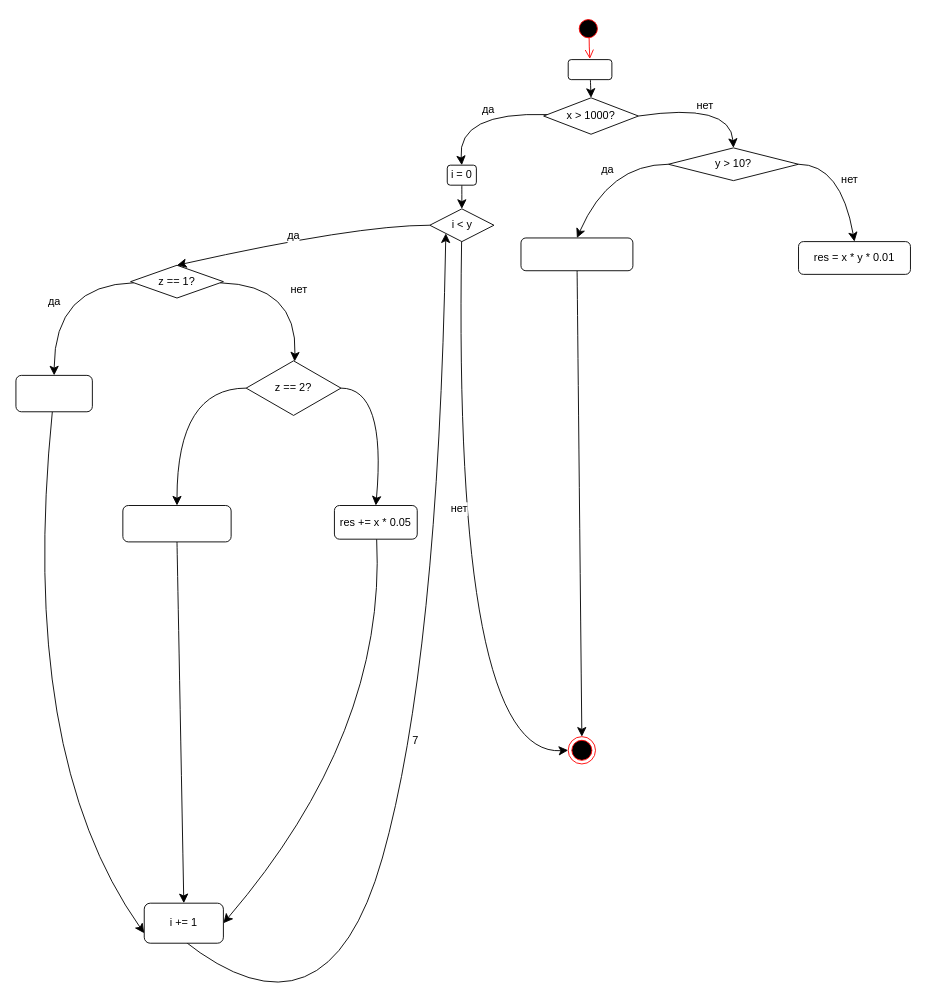
The diagram is 926 pixels wide and 998 high, and some of its shapes have lost their labels. Here are the shapes that lost their labels. From the top down, the centre of each, then its label:
At point (589, 69): "res = 0".
At point (576, 254): "res = x * y * 0.02".
At point (53, 393): "res += x * 0.15".
At point (176, 523): "res += x * 0.10".
